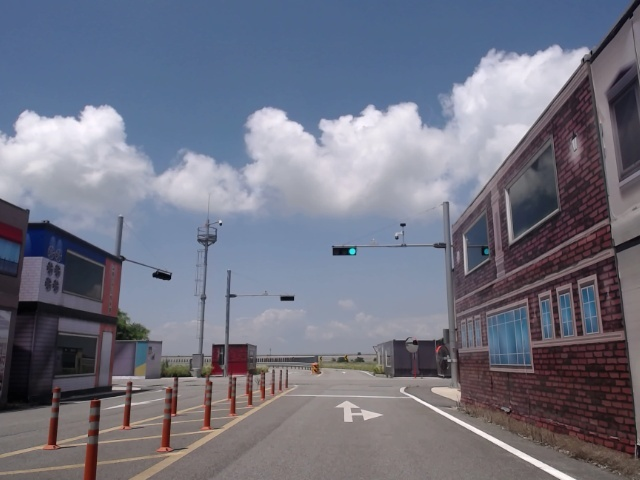green_3: (333, 247, 356, 255)
